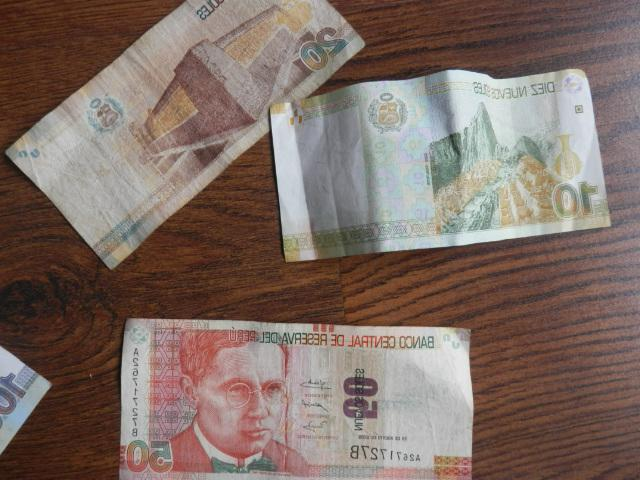B10: (269, 70, 611, 263)
B20: (1, 1, 357, 165)
B50: (122, 318, 472, 479)
